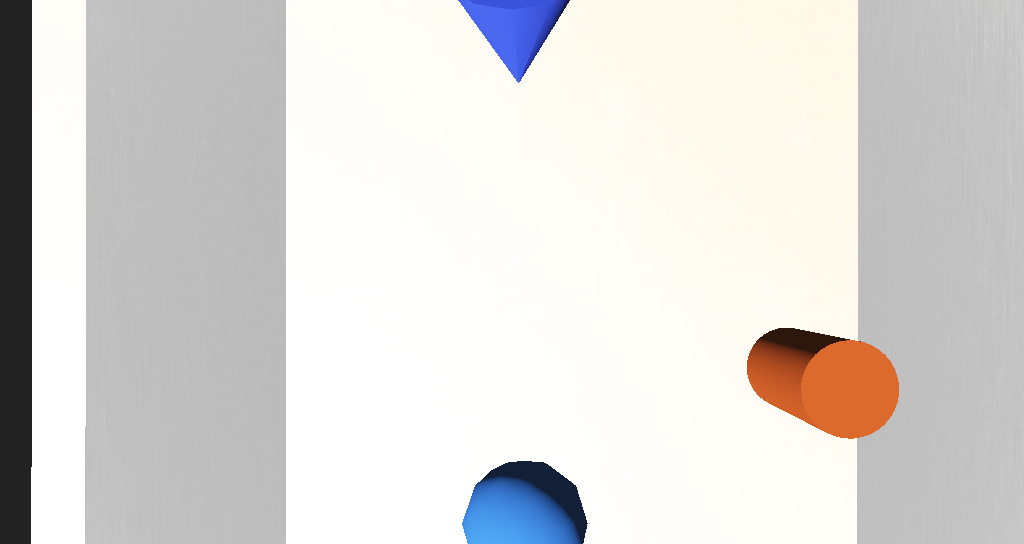cone: (600, 286, 653, 324)
cylinder: (438, 146, 505, 217)
sphere: (445, 334, 512, 382)
